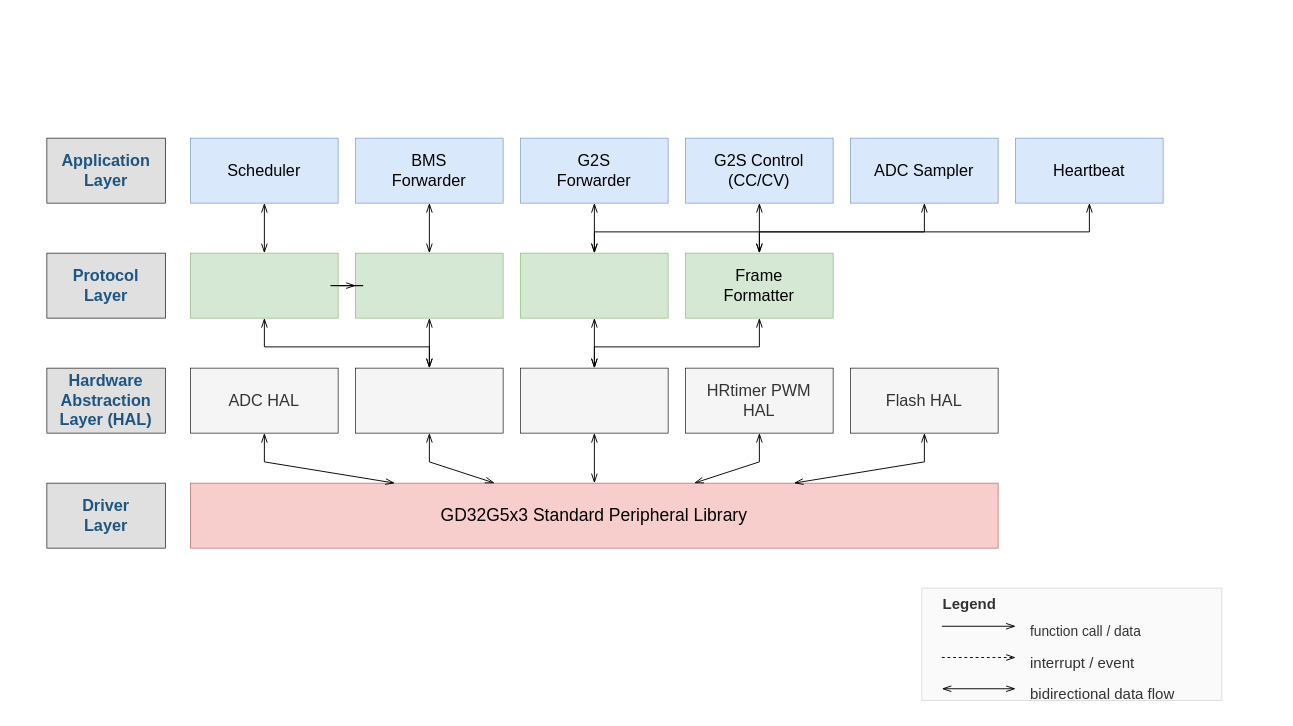
Image size: 1293x726. Some labels were removed from this diagram. The shapes that lost their labels are listed below. From the top down, each one's centre as x and y in pixels, then its label:
pixel 264 285: BMS Protocol Parser
pixel 429 285: BMS Data Model
pixel 594 285: UART Protocol
pixel 429 400: CAN HAL
pixel 594 400: UART HAL
